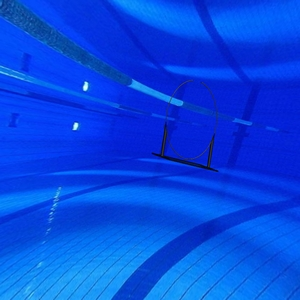circle: (151, 78, 220, 175)
